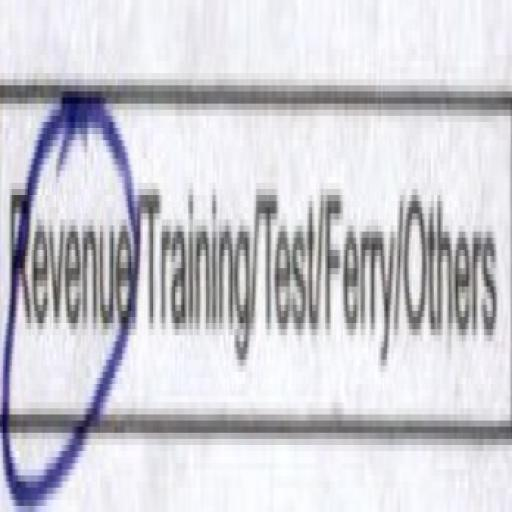check: (0, 61, 137, 512)
